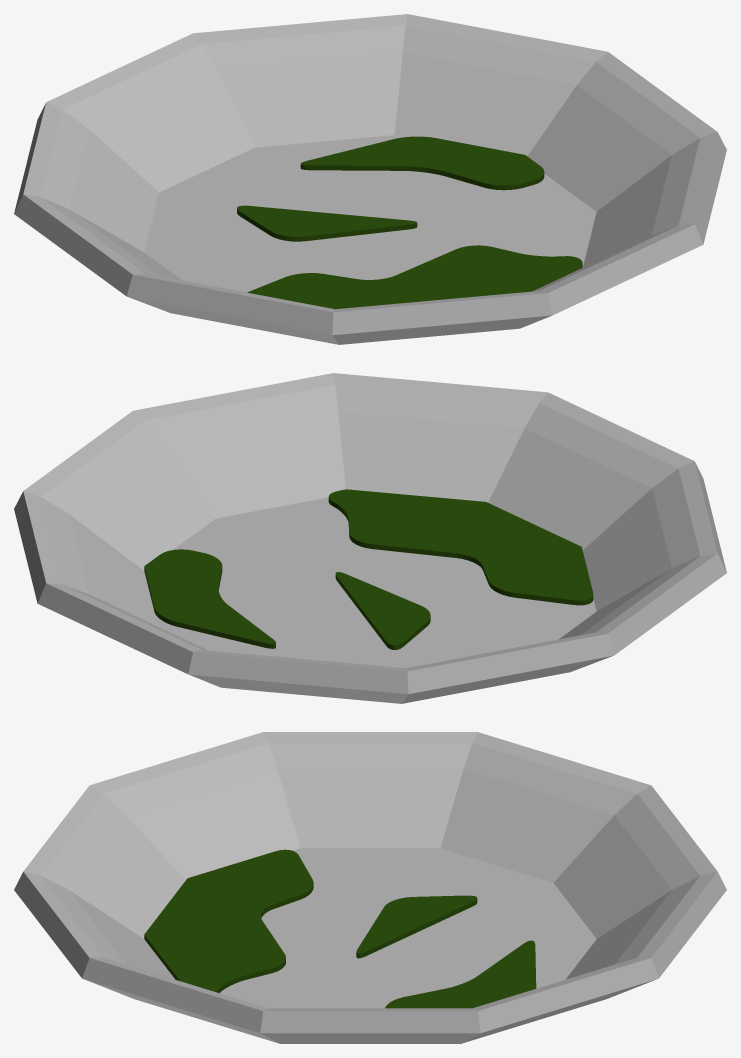
Rendered from Plate_Dirty.glb.
3 renders of one model, top to bottom at view 1: azimuth 30°, elevation 25°; view 2: azimuth 150°, elevation 25°; view 3: azimuth 270°, elevation 25°, orthographic. The views are drawn at different scales.
Visible parts, largest first — view 1: Plate; view 2: Plate; view 3: Plate.
Boxes of the visible parts, x1,y1,x2,y2 form: Plate: (14,14,726,344); Plate: (14,373,726,703); Plate: (14,732,726,1043).
Bounding box in the file's own units: 1.74 × 0.2547 × 1.83.
